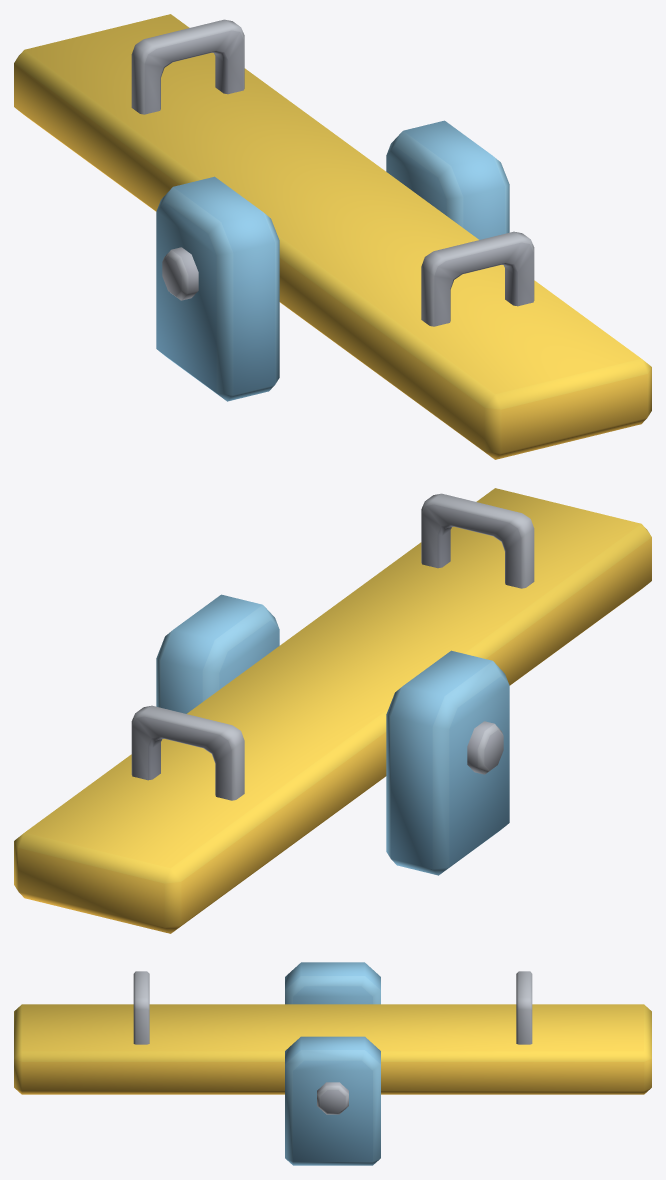
Rendered from seesaw_small.glb.
3 renders of one model, top to bottom at view 1: azimuth 30°, elevation 25°; view 2: azimuth 150°, elevation 25°; view 3: azimuth 270°, elevation 25°, orthographic. The views are drawn at different scales.
Visible parts, largest first — view 1: seesaw_small_seat, seesaw_small; view 2: seesaw_small_seat, seesaw_small; view 3: seesaw_small_seat, seesaw_small.
Boxes of the visible parts, <box> form: seesaw_small_seat: <box>14,14,651,459</box>; seesaw_small: <box>156,120,509,401</box>; seesaw_small_seat: <box>14,488,651,933</box>; seesaw_small: <box>156,594,509,875</box>; seesaw_small_seat: <box>14,971,651,1094</box>; seesaw_small: <box>285,962,380,1165</box>.
Bounding box in the file's own units: 1.54 × 0.95 × 4.
1 material, 1 textured.
